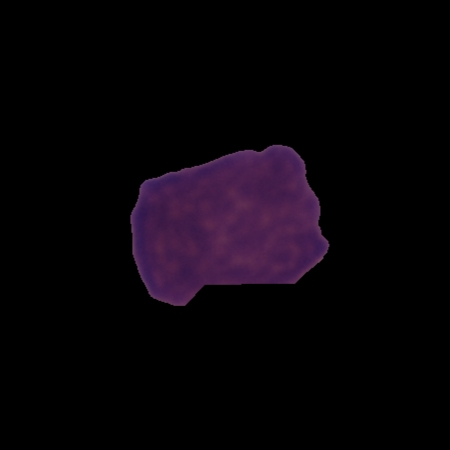HEM: (127, 140, 331, 308)
